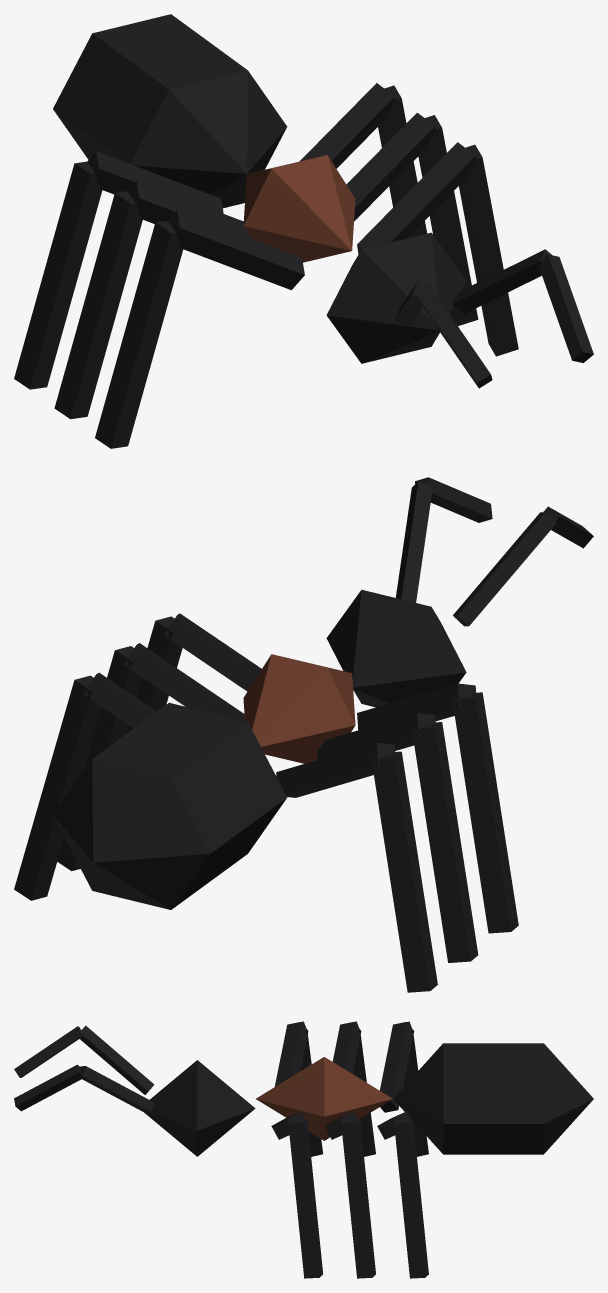
File: GN_Ant_01.glb
3 renders of one model, top to bottom at view 1: azimuth 30°, elevation 25°; view 2: azimuth 150°, elevation 25°; view 3: azimuth 270°, elevation 25°, orthographic. The views are drawn at different scales.
Visible parts, largest first — view 1: GN_Ant_01; view 2: GN_Ant_01; view 3: GN_Ant_01.
Part boxes in pixels (bbox=[...]): GN_Ant_01: bbox=[14, 14, 593, 448]; GN_Ant_01: bbox=[14, 477, 593, 992]; GN_Ant_01: bbox=[14, 1021, 593, 1278].
Size of the model in its own units: 0.00595 by 0.00357 by 0.011.
Materials: 1 (1 with a texture image).
